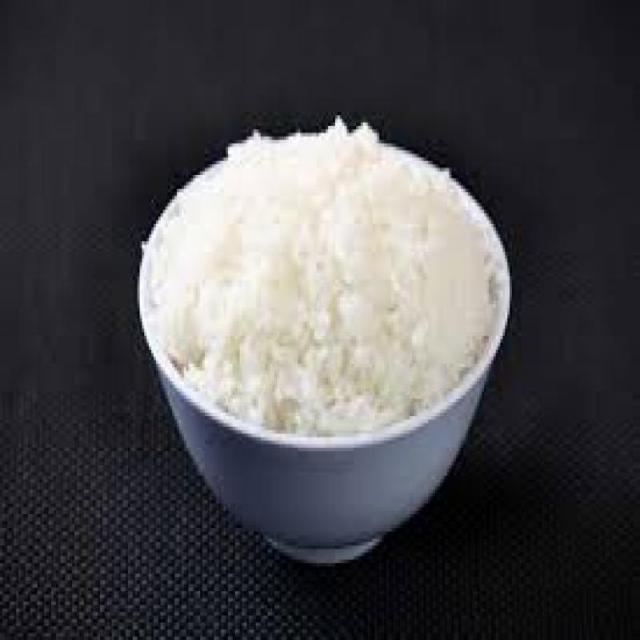nasi_putih: (148, 120, 496, 438)
